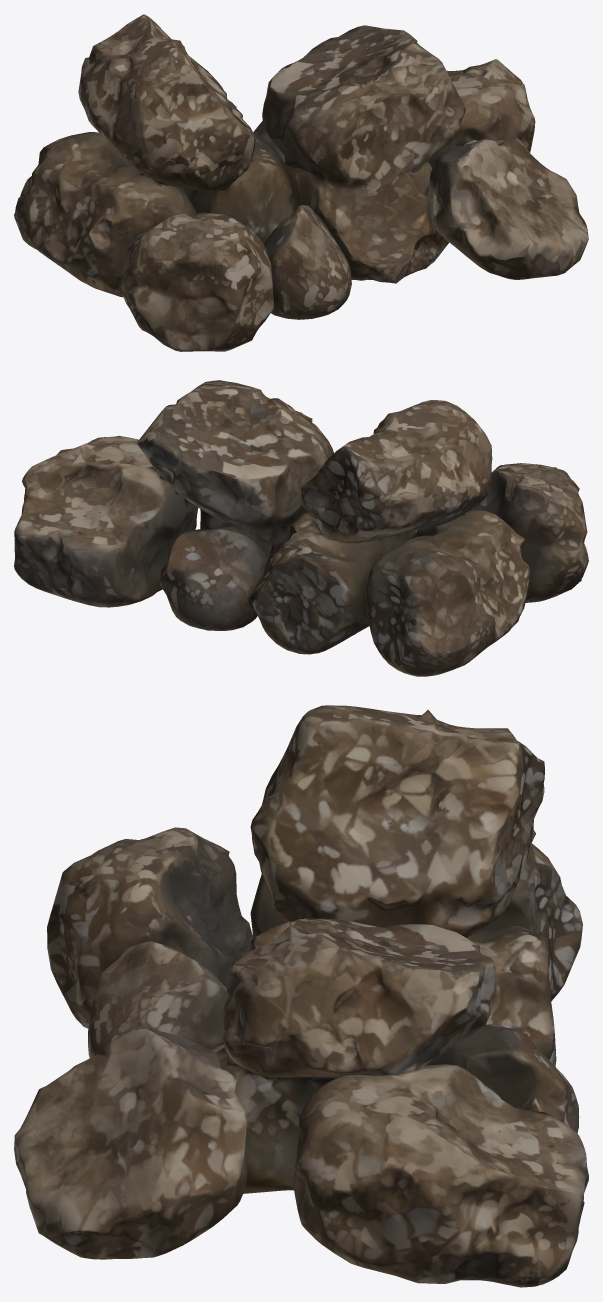
File: rocks.glb
The picture shows the model from 3 angles, top to bottom: view 1: azimuth 30°, elevation 25°; view 2: azimuth 150°, elevation 25°; view 3: azimuth 270°, elevation 25°; orthographic projection. The views are drawn at different scales.
Visible parts, largest first — view 1: tripo_node_4749e957-641c-4ae1-b738-d22a5c487bd3; view 2: tripo_node_4749e957-641c-4ae1-b738-d22a5c487bd3; view 3: tripo_node_4749e957-641c-4ae1-b738-d22a5c487bd3.
Boxes of the visible parts, box(x1,y1,x2,y2) form: tripo_node_4749e957-641c-4ae1-b738-d22a5c487bd3: box(14, 14, 588, 351); tripo_node_4749e957-641c-4ae1-b738-d22a5c487bd3: box(14, 380, 588, 676); tripo_node_4749e957-641c-4ae1-b738-d22a5c487bd3: box(14, 705, 588, 1287).
Bounding box in the file's own units: 5 × 2.26 × 3.46.
Materials: 1 (1 with a texture image).
